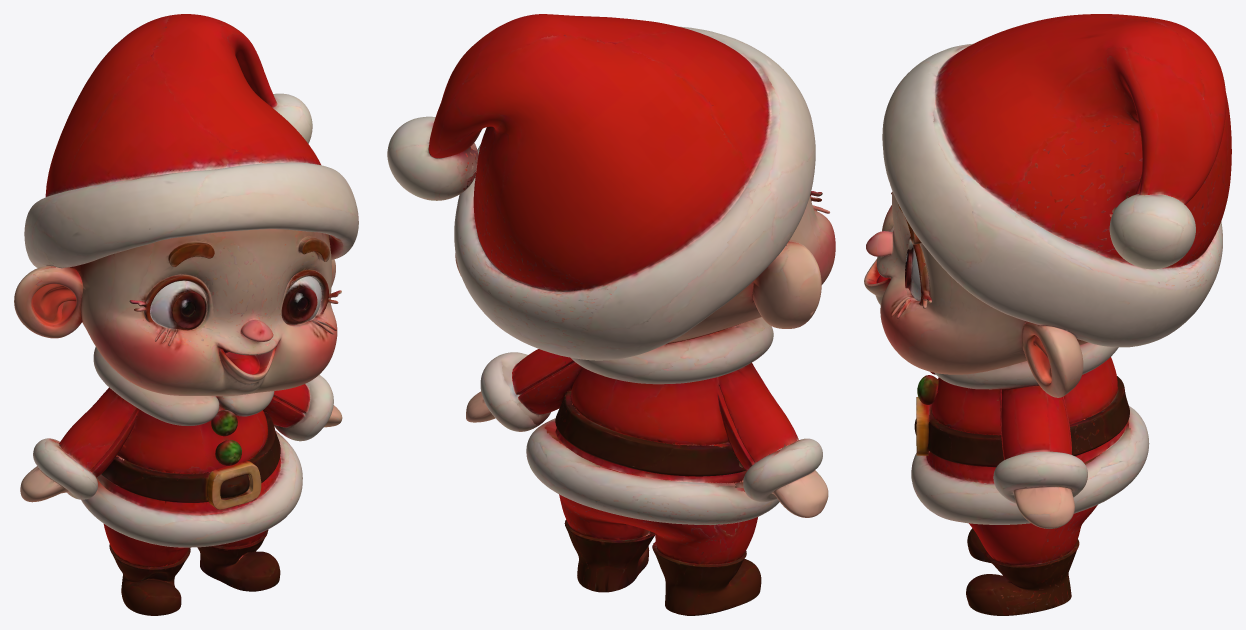
File: planet-boy.glb
3 renders of one model, left to right at view 1: azimuth 30°, elevation 25°; view 2: azimuth 150°, elevation 25°; view 3: azimuth 270°, elevation 25°, orthographic. The views are drawn at different scales.
Parts seen in each view (by area): view 1: texture_pbr_v128; view 2: texture_pbr_v128; view 3: texture_pbr_v128.
Boxes of the visible parts, x1,y1,x2,y2 form: texture_pbr_v128: [14, 14, 358, 615]; texture_pbr_v128: [387, 14, 835, 615]; texture_pbr_v128: [864, 14, 1231, 615].
Bounding box in the file's own units: 0.7537 × 1.12 × 0.6455.
1 material, 1 textured.
